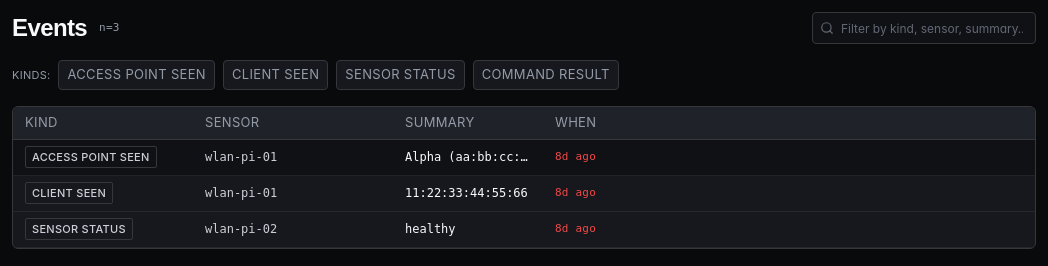
Test: EventsView › filters to a single kind via the chip
Check: the text "Alpha (aa:bb:cc:dd:ee:01)" is shown, box [405,148,531,166]
Click the button "client seen" at (276, 75), box [223,60,328,90]
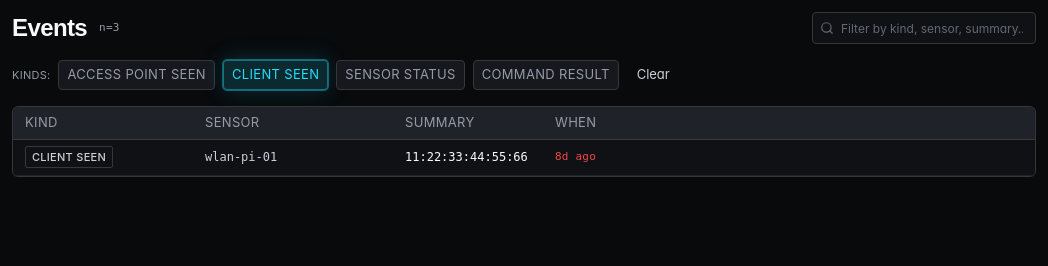
Check: the text "11:22:33:44:55:66" is shown, box [405,148,528,166]
Check: the text "Alpha (aa:bb:cc:dd:ee:01)" is gone
Check: the text "healthy" is gone
